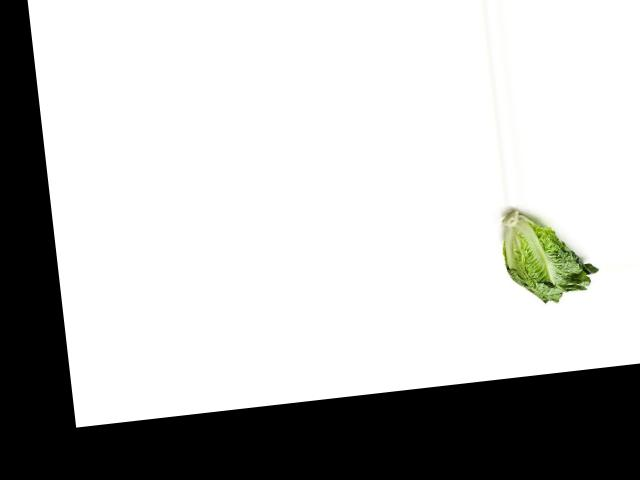lettuce: (495, 204, 601, 312)
